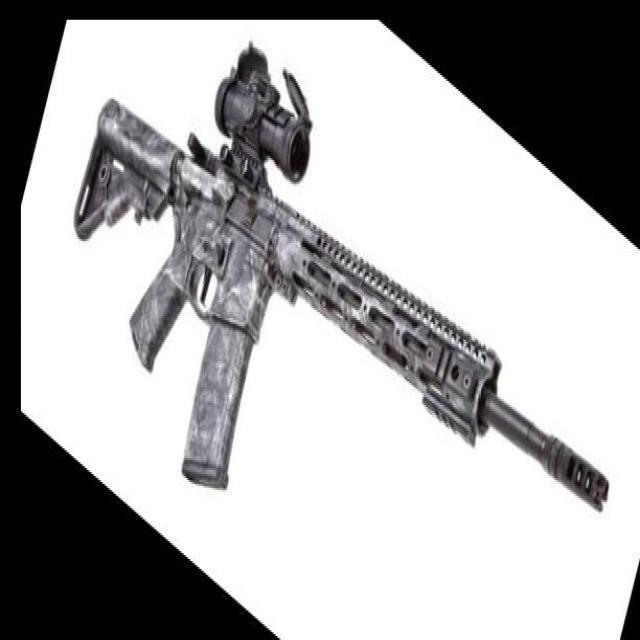Rifle: (73, 43, 611, 514)
